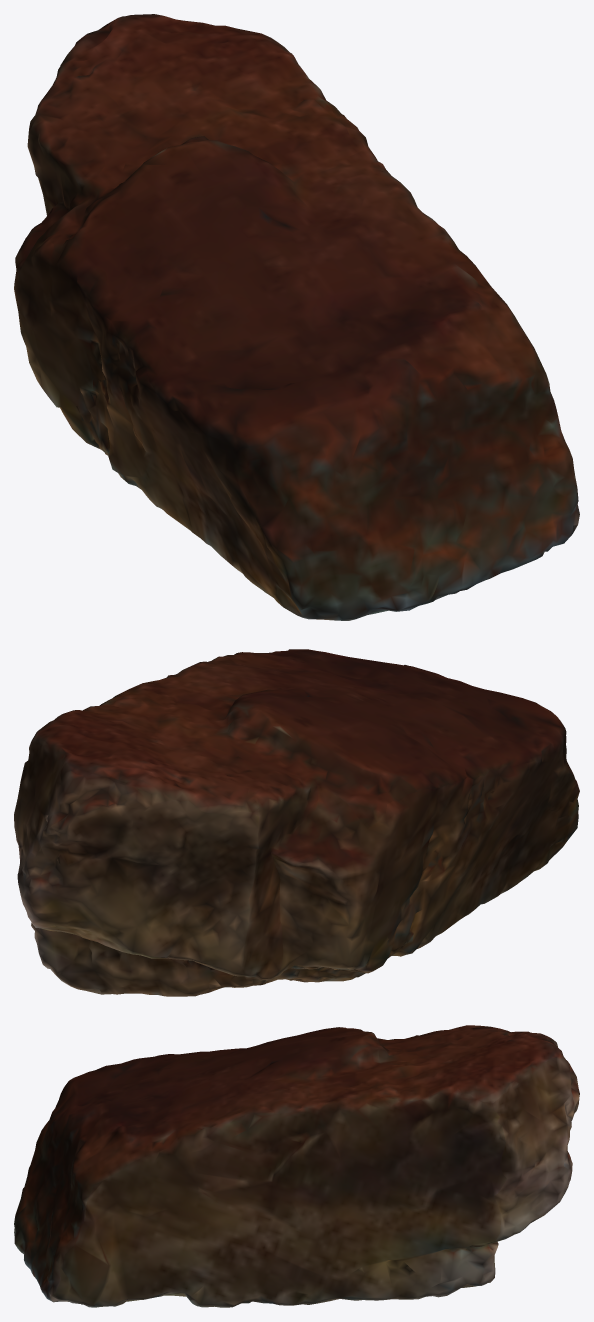
File: isle-rock-1.glb
3 renders of one model, top to bottom at view 1: azimuth 30°, elevation 25°; view 2: azimuth 150°, elevation 25°; view 3: azimuth 270°, elevation 25°, orthographic. The views are drawn at different scales.
Visible parts, largest first — view 1: rock_07; view 2: rock_07; view 3: rock_07.
Part boxes in pixels (x1,y1,x2,y2): rock_07: (14,14,579,620); rock_07: (14,649,579,996); rock_07: (14,1025,579,1307).
Bounding box in the file's own units: 0.1689 × 0.1437 × 0.3203.
Materials: 1 (1 with a texture image).
